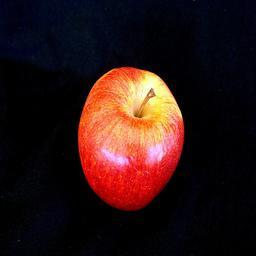apple: (76, 68, 185, 213)
